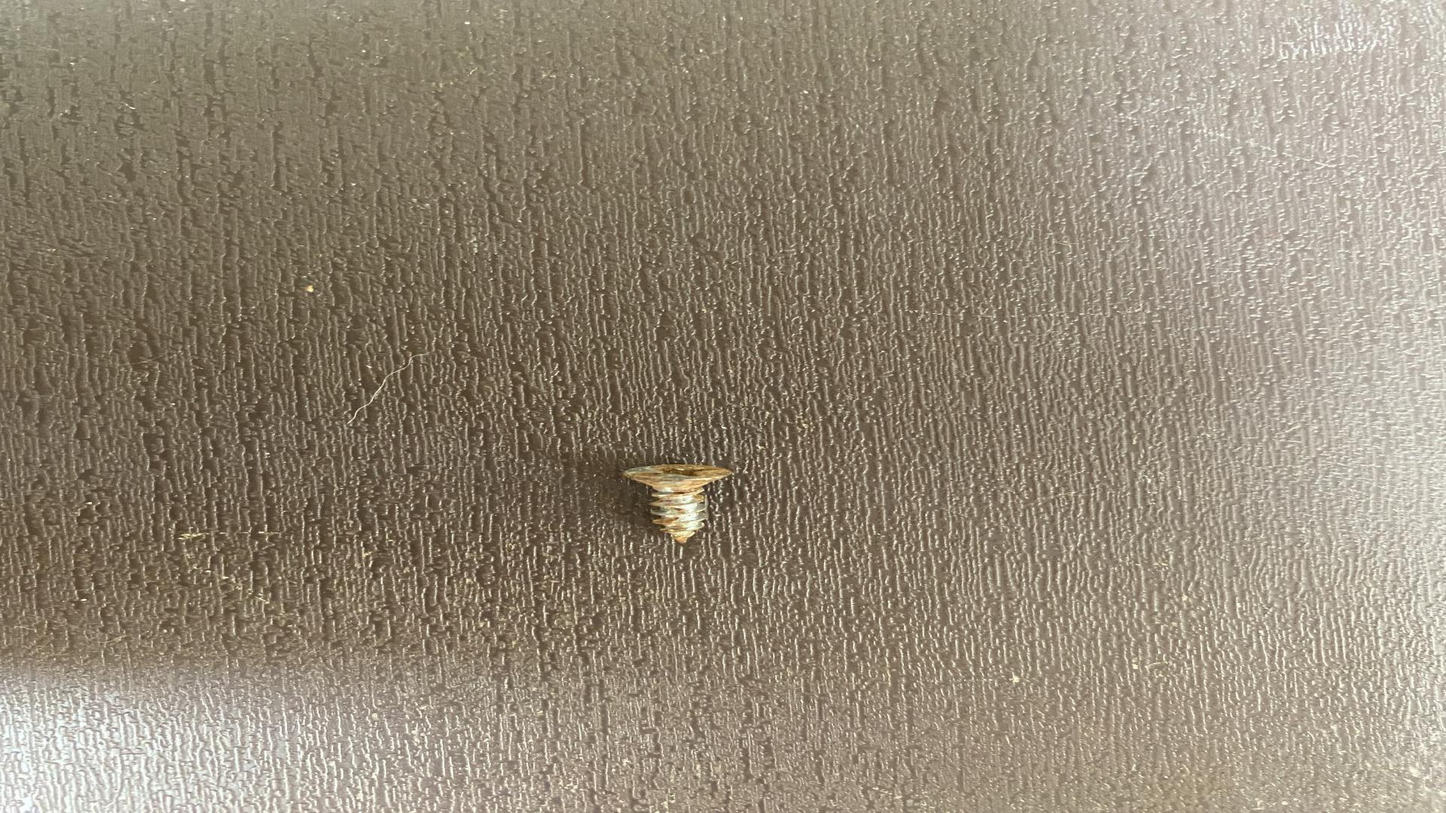screw: (598, 449, 770, 549)
